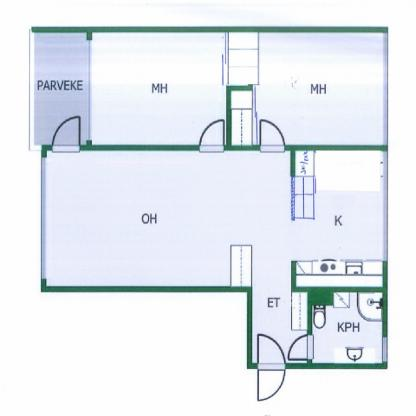door: (256, 332, 289, 402), (51, 115, 81, 152), (198, 114, 224, 154), (259, 118, 286, 156), (285, 333, 317, 363)
window: (40, 158, 46, 278), (381, 32, 387, 146), (382, 150, 388, 263), (384, 338, 388, 364)
zone: (45, 151, 383, 377), (92, 30, 228, 144), (254, 30, 383, 141), (34, 30, 89, 145), (310, 290, 382, 364)
